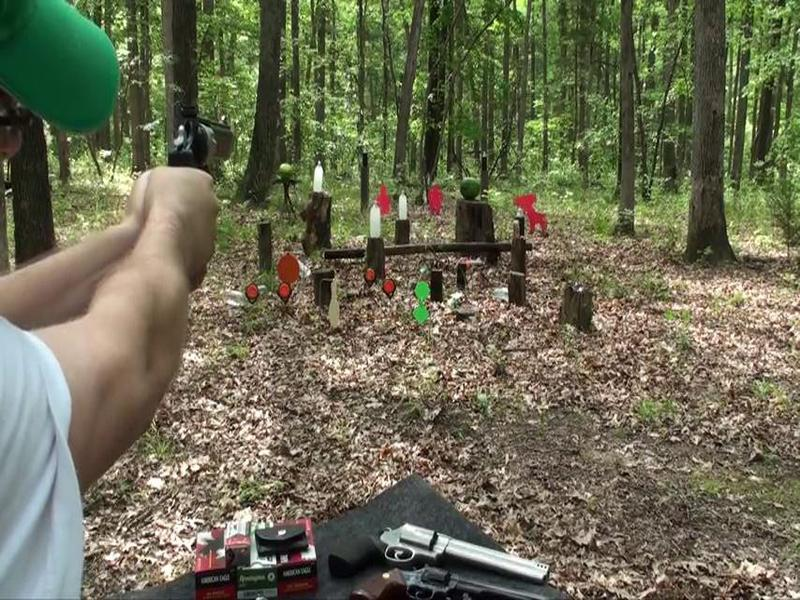Revolver: (163, 109, 250, 211)
